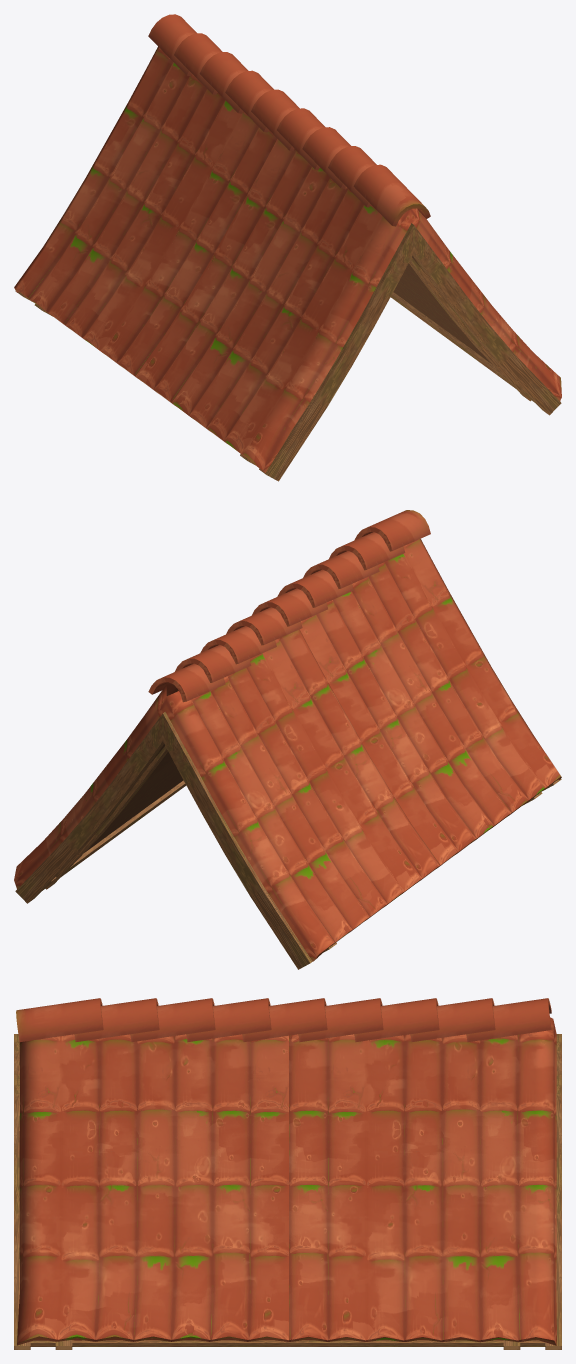
Rendered from Roof_RoundTiles_4x6.gltf.
3 renders of one model, top to bottom at view 1: azimuth 30°, elevation 25°; view 2: azimuth 150°, elevation 25°; view 3: azimuth 270°, elevation 25°, orthographic. The views are drawn at different scales.
Parts seen in each view (by area): view 1: Roof_RoundTiles_4x6; view 2: Roof_RoundTiles_4x6; view 3: Roof_RoundTiles_4x6.
Part boxes in pixels (x1,y1,x2,y2): Roof_RoundTiles_4x6: [14, 14, 561, 481]; Roof_RoundTiles_4x6: [14, 510, 561, 969]; Roof_RoundTiles_4x6: [14, 998, 561, 1349].
Size of the model in its own units: 5.51 by 4.23 by 7.57.
2 materials, 2 textured.
